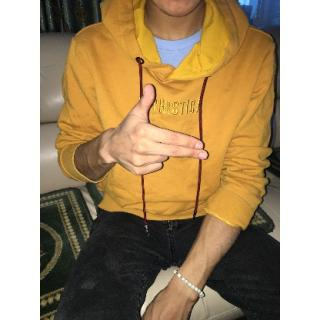GHAYN: (109, 83, 214, 179)
